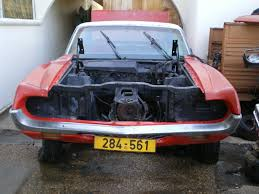licence: (92, 134, 156, 154)
